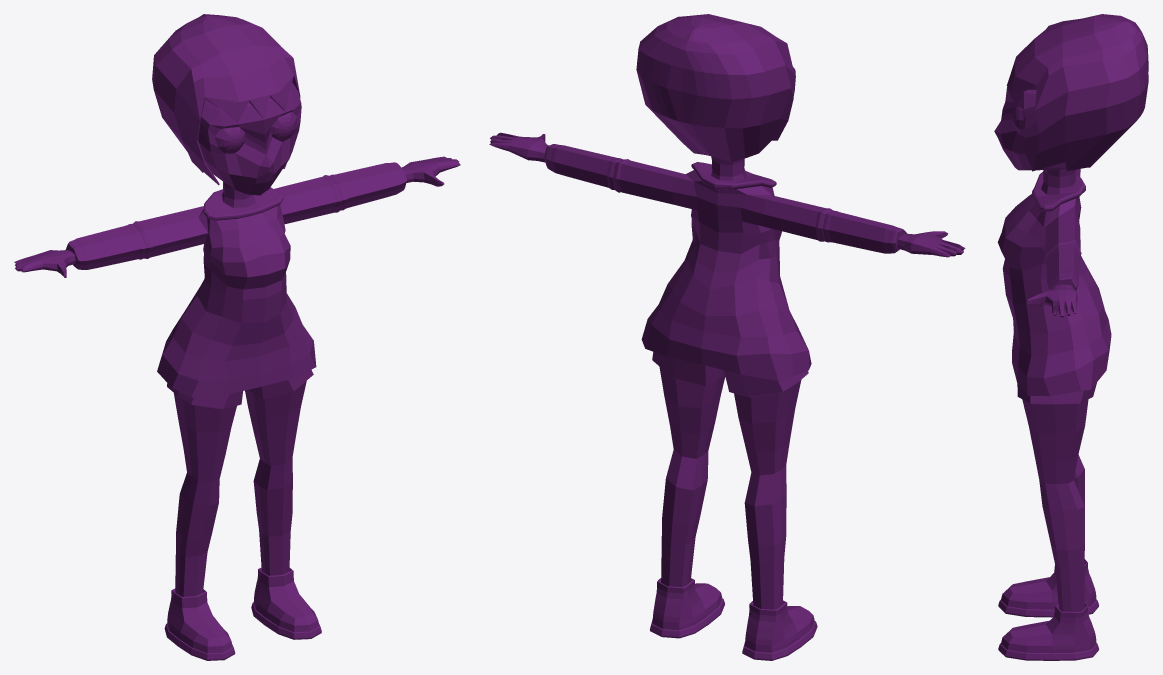
The model's file is Character.fbx.
The picture shows the model from 3 angles, left to right: view 1: azimuth 30°, elevation 25°; view 2: azimuth 150°, elevation 25°; view 3: azimuth 270°, elevation 25°; orthographic projection. The views are drawn at different scales.
Parts seen in each view (by area): view 1: Torso, Legs, Hair, Face; view 2: Torso, Legs, Hair, Face; view 3: Torso, Hair, Legs, Face.
Boxes of the visible parts, box(x1,y1,x2,y2) form: Torso: box(14, 156, 460, 397); Legs: box(164, 369, 321, 660); Hair: box(152, 14, 300, 185); Face: box(198, 82, 301, 207); Torso: box(489, 132, 965, 381); Legs: box(650, 352, 817, 660); Hair: box(636, 14, 794, 162); Face: box(711, 67, 795, 180); Torso: box(997, 169, 1111, 396); Hair: box(1006, 14, 1148, 171); Legs: box(998, 383, 1098, 660); Face: box(994, 80, 1076, 194).
Size of the model in its own units: 145 by 184 by 42.53.
